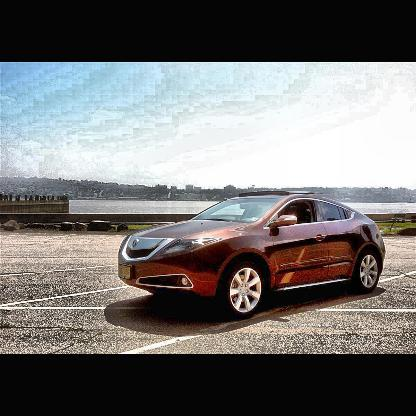Acura ZDX Hatchback 2012: (117, 192, 387, 320)
